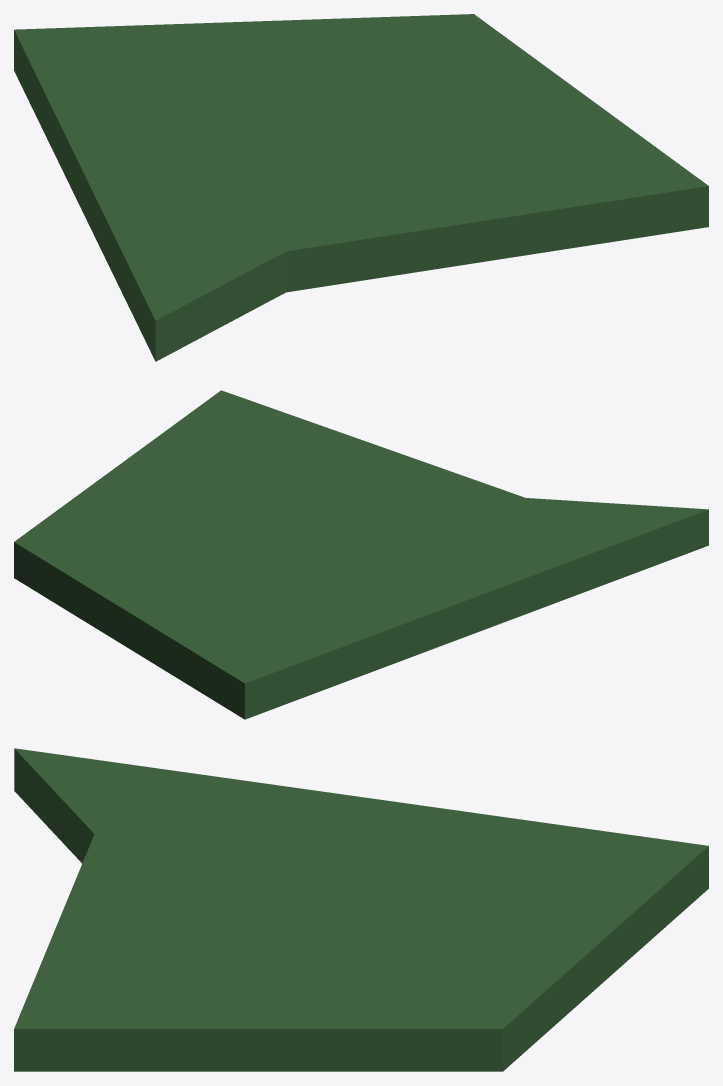
The model's file is x_proval_00_212_1_rmstrd.fbx.
The picture shows the model from 3 angles, top to bottom: view 1: azimuth 30°, elevation 25°; view 2: azimuth 150°, elevation 25°; view 3: azimuth 270°, elevation 25°; orthographic projection. The views are drawn at different scales.
Parts seen in each view (by area): view 1: x_proval_00_212_1_rmstrd1; view 2: x_proval_00_212_1_rmstrd1; view 3: x_proval_00_212_1_rmstrd1.
Part boxes in pixels (box(x1,y1,x2,y2)): x_proval_00_212_1_rmstrd1: box(14, 14, 708, 361); x_proval_00_212_1_rmstrd1: box(14, 390, 708, 719); x_proval_00_212_1_rmstrd1: box(14, 748, 708, 1071).
Size of the model in its own units: 2.82 by 0.2 by 2.95.
